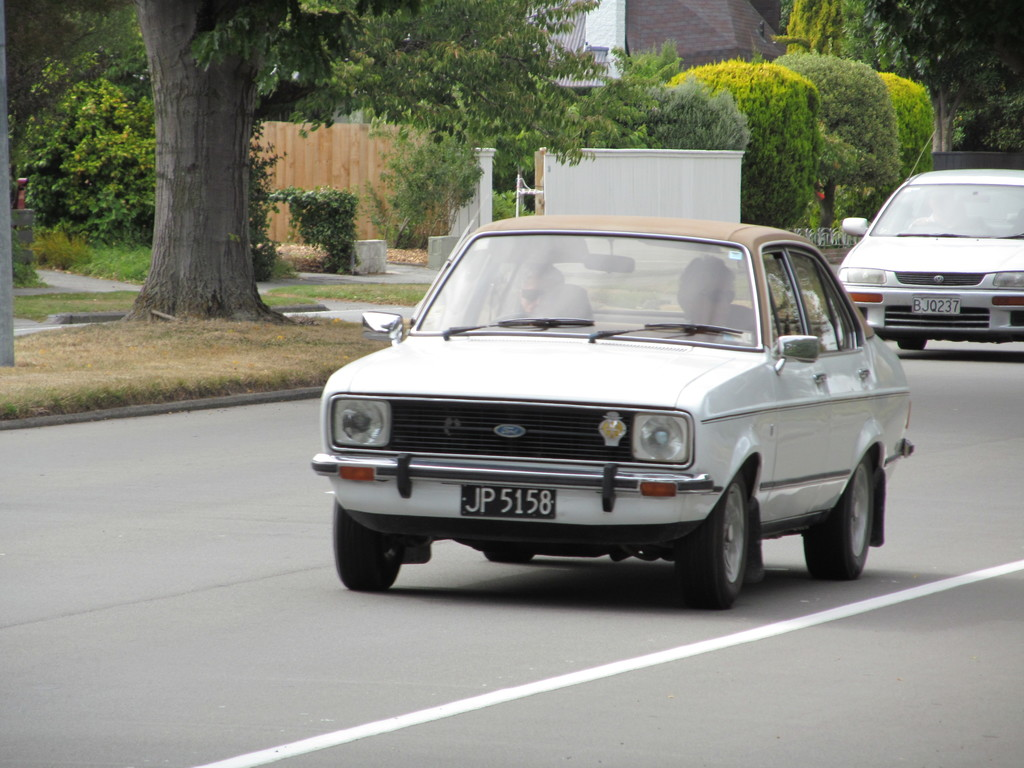Car: (316, 207, 910, 609), (834, 131, 1023, 351)
